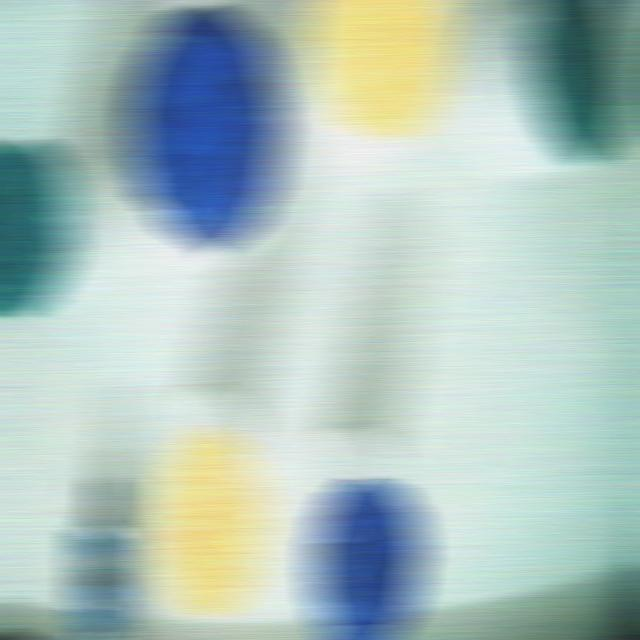blue: (125, 5, 288, 261), (467, 0, 630, 175)
green: (524, 0, 629, 164), (538, 0, 629, 162), (0, 138, 76, 316)
yellow: (147, 430, 270, 616), (303, 0, 454, 142)
